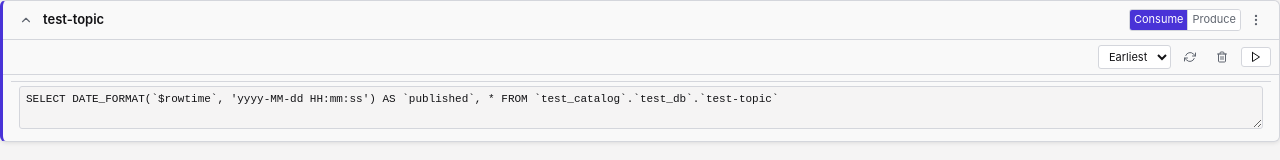
it: [@stream-card-coverage] StreamCard Coverage › [@stream-card-coverage] Live Auto-Refresh › Stop button stops auto-refresh
Click the button named "Start live streaming".
click(1256, 57)  # box [1241,47,1271,67]
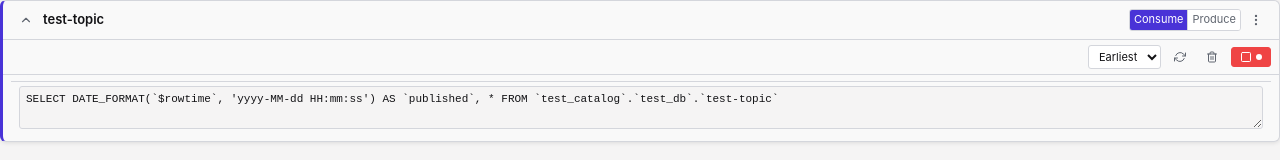
Click the button named "Stop live streaming".
click(1251, 57)  # box [1231,47,1271,67]
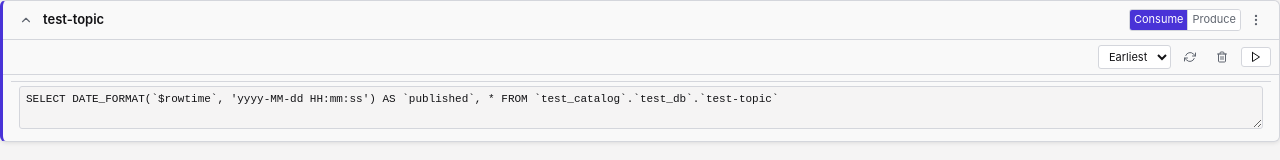
Result: the button named "Start live streaming" is shown at [1241,47,1271,67]
